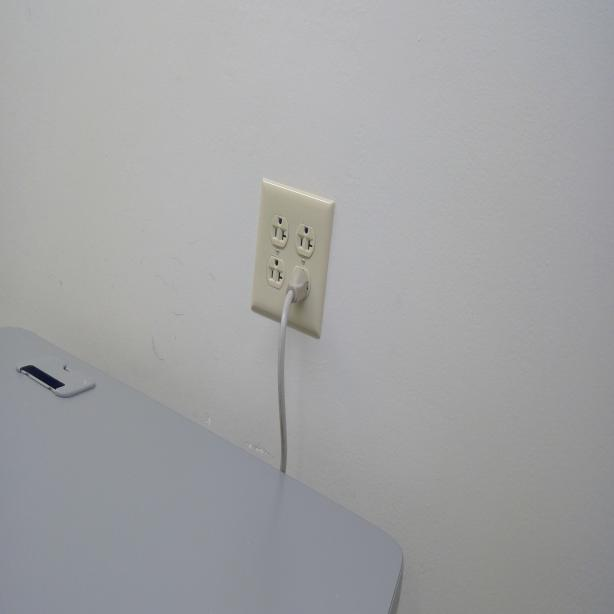typeb: (298, 222, 316, 259), (270, 212, 288, 248), (266, 258, 286, 288)
